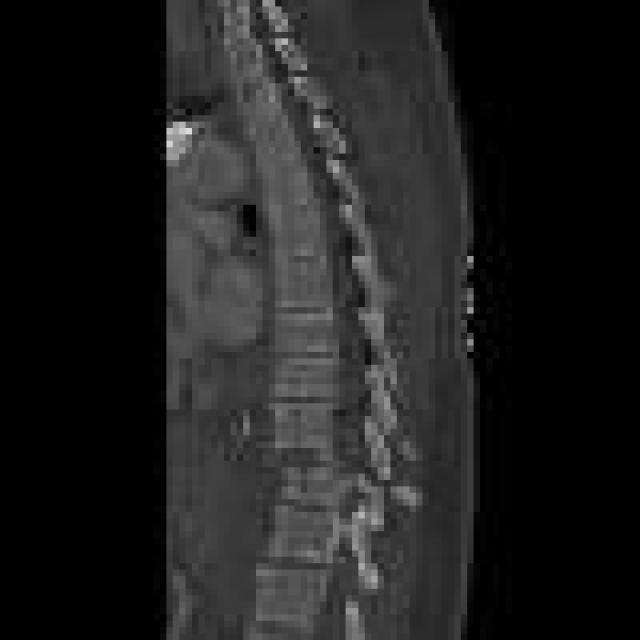Fracture: (182, 100, 424, 581)
